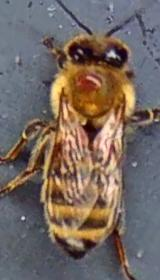varroa_mite: (73, 67, 109, 106)
